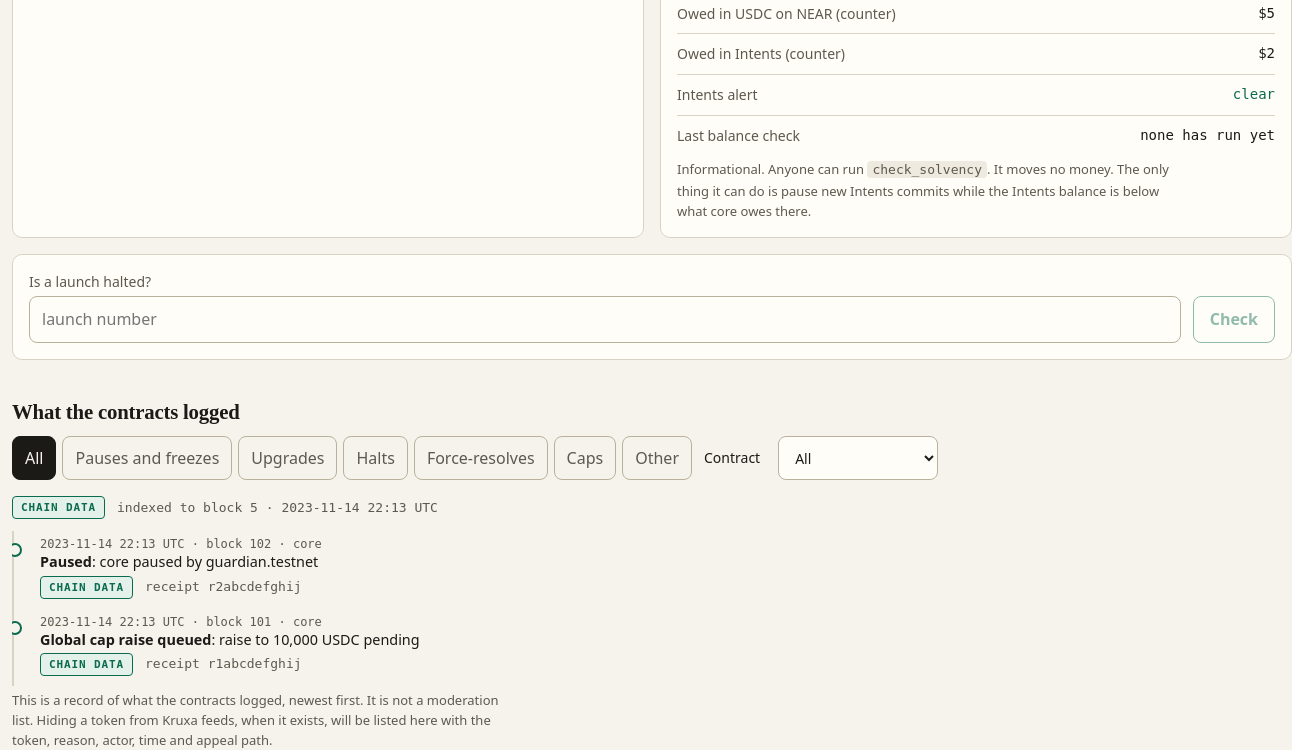
Test: /ops-log › lists log entries newest first and filters by kind
(page scrolled)
Expected: the list item "core paused by guardian.testnet" is shown, [100,552,318,571]
Click the button "Caps" at (585, 458), box [554,436,616,480]
(page scrolled)
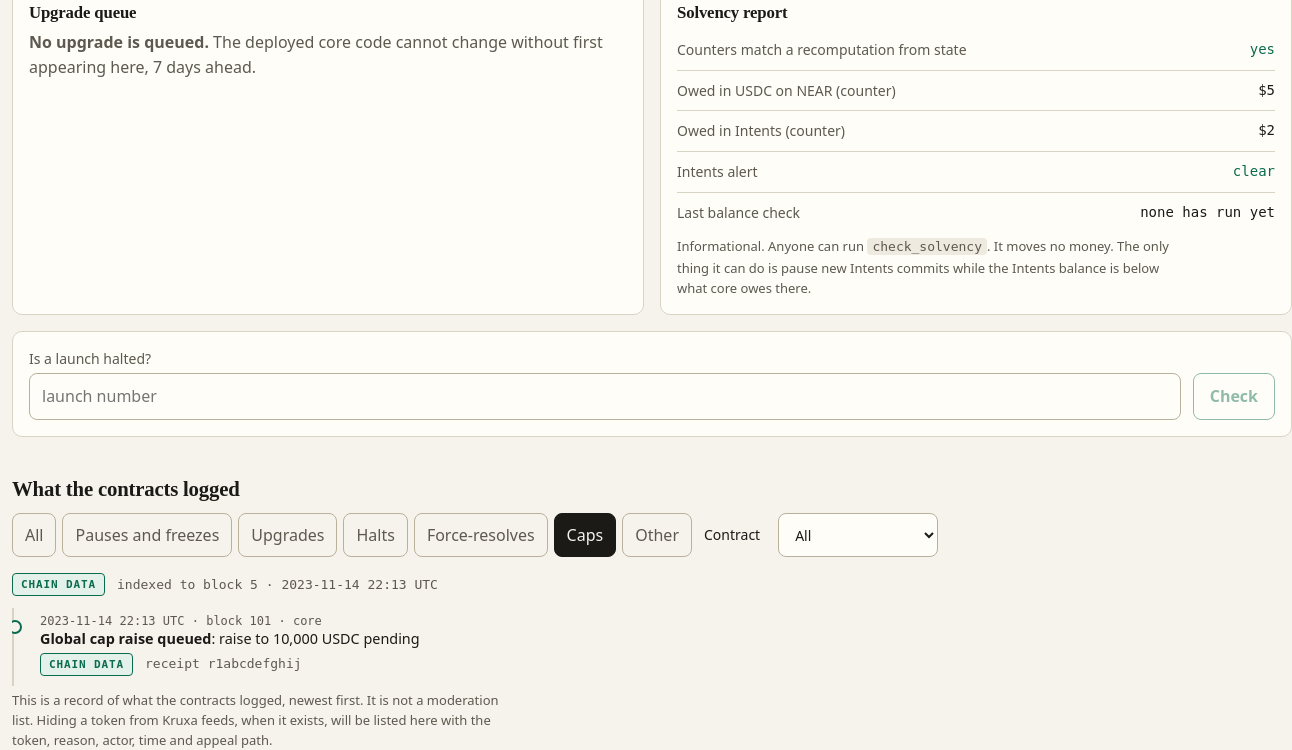
Expected: the list item "raise to 10,000 USDC pending" is shown, [219,629,420,648]
Expected: the list item "core paused by guardian.testnet" is gone
